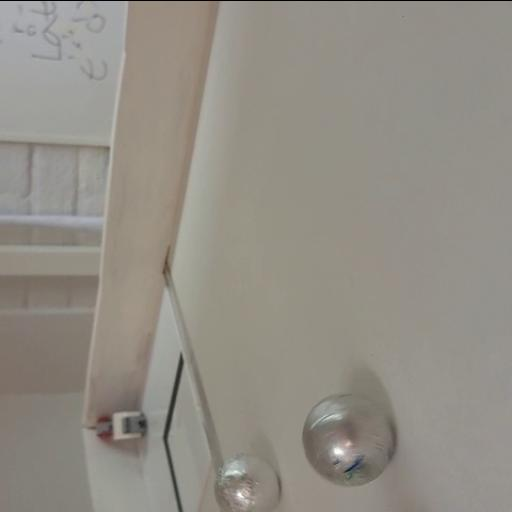alive: (300, 389, 396, 488), (213, 451, 282, 512)
